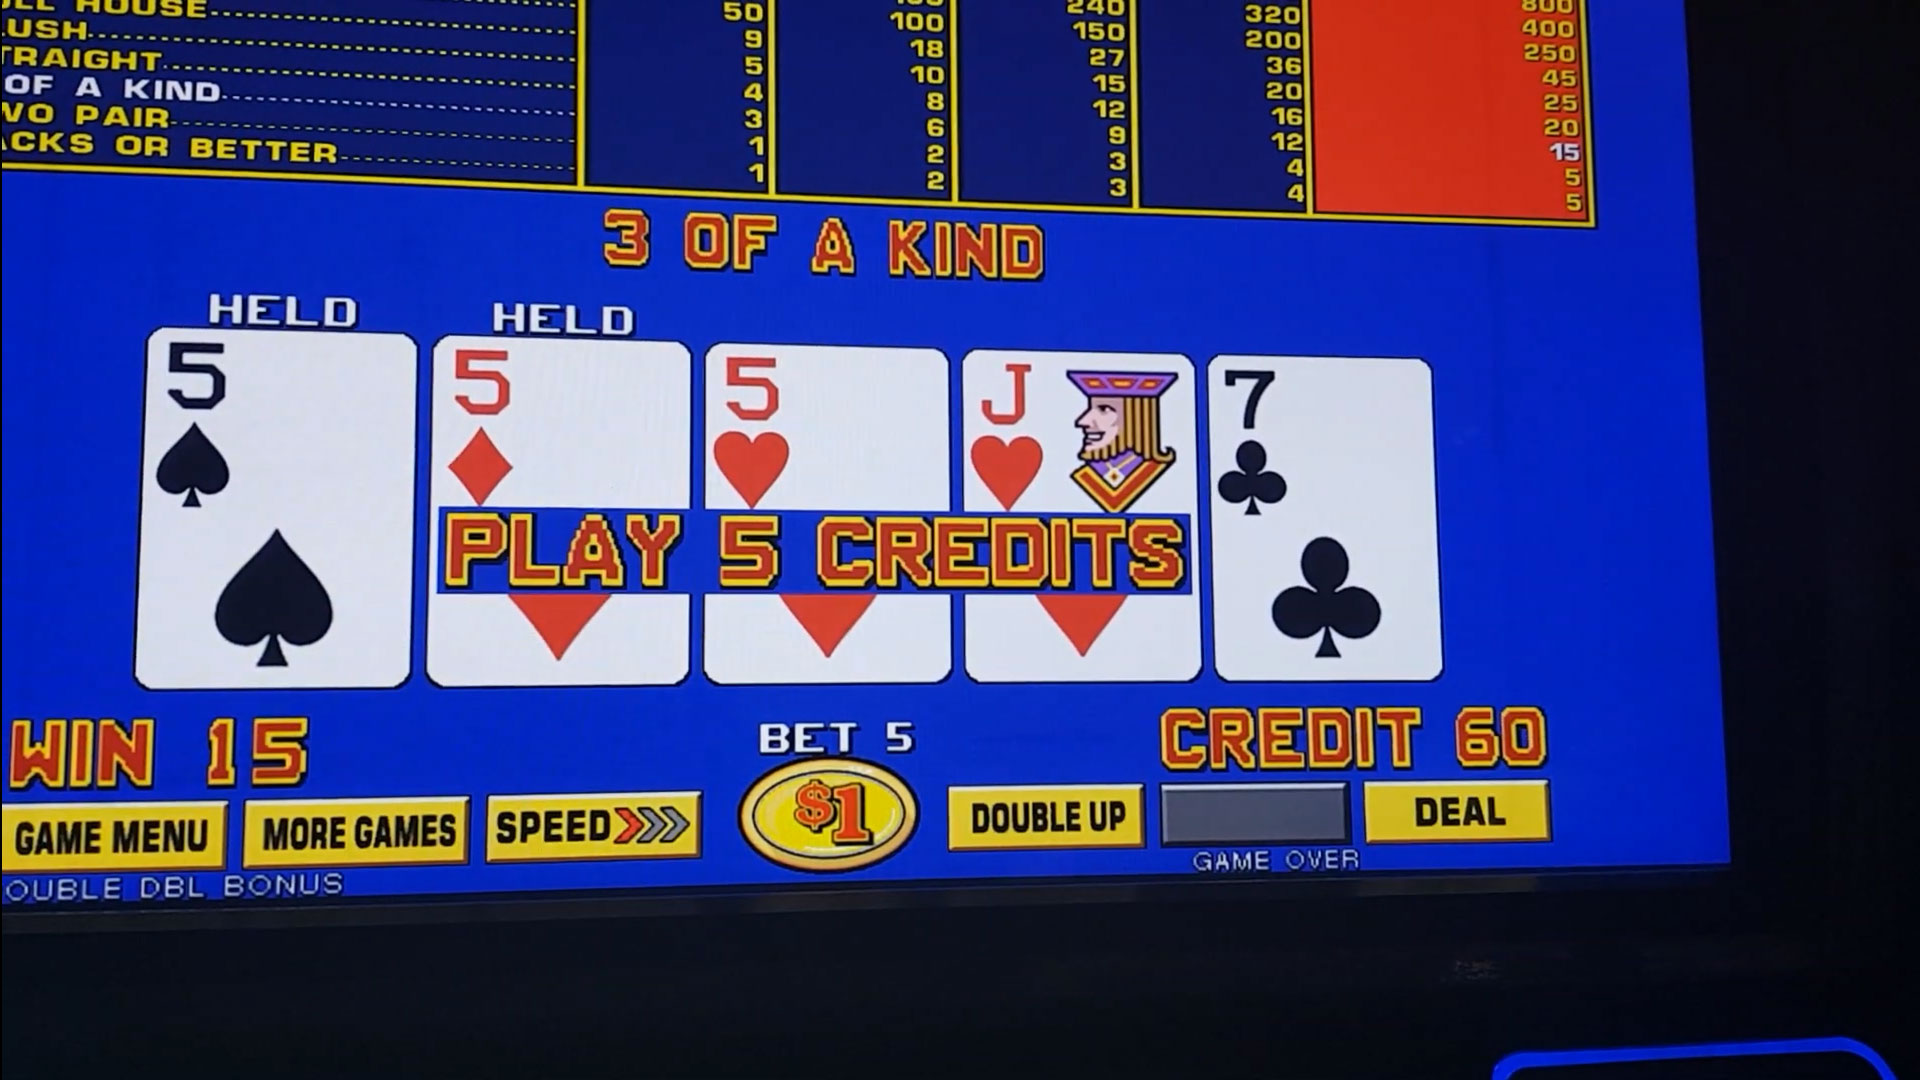C7: (1213, 364, 1425, 524)
D5: (440, 344, 683, 502)
H5: (711, 353, 943, 502)
HJ: (963, 357, 1192, 508)
S5: (152, 338, 409, 514)
